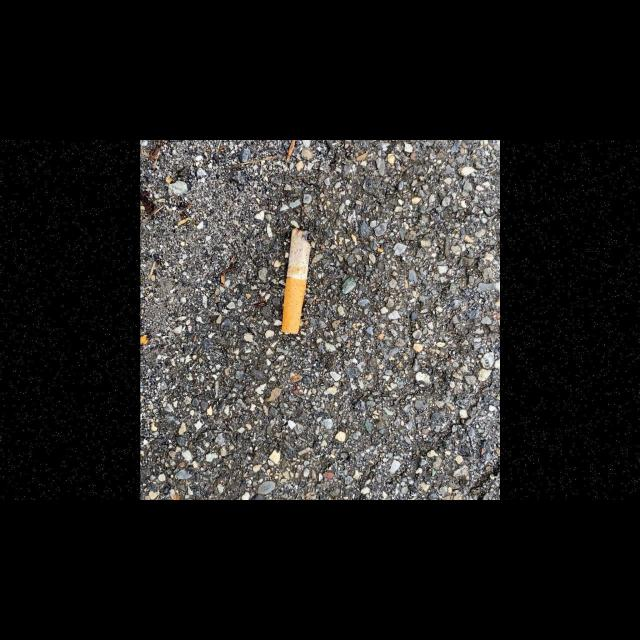cigarette: (280, 227, 312, 335)
